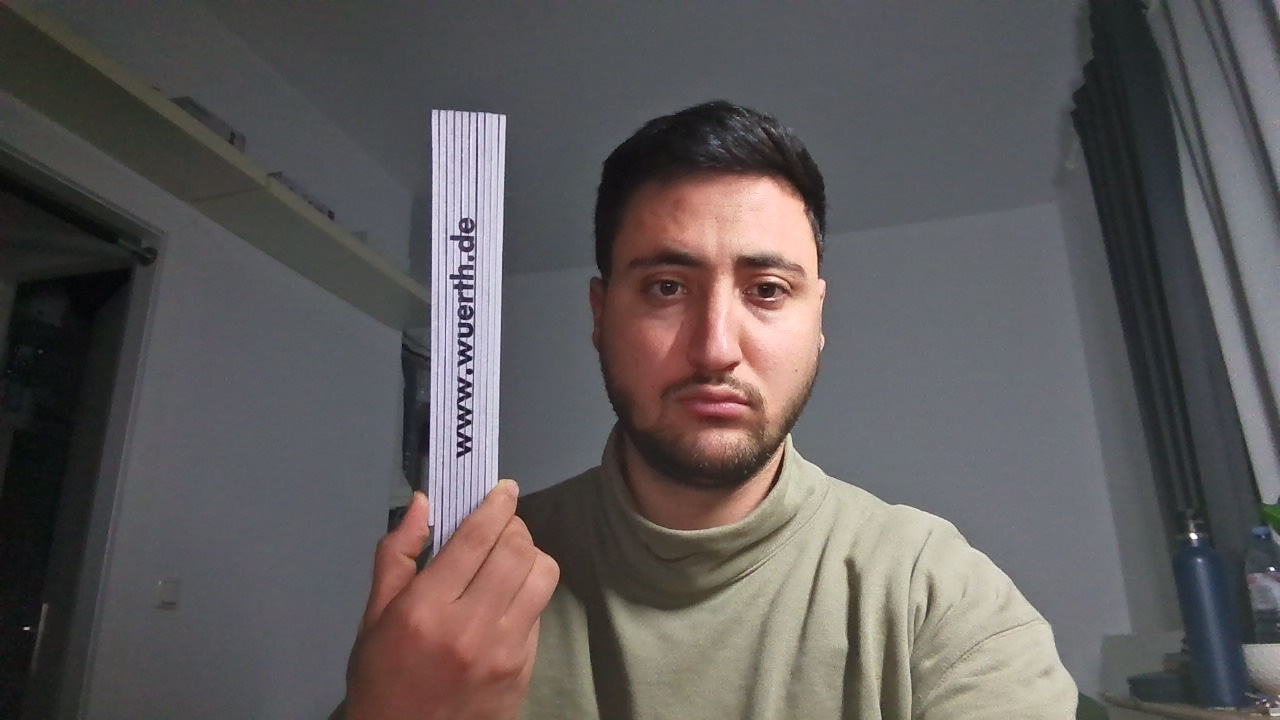Wasserflasche: (1147, 490, 1253, 706)
Zollstock: (413, 97, 515, 572)
me: (568, 80, 839, 527)
